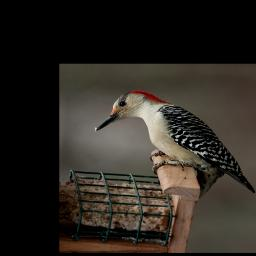Woodpecker: (90, 88, 256, 201)
